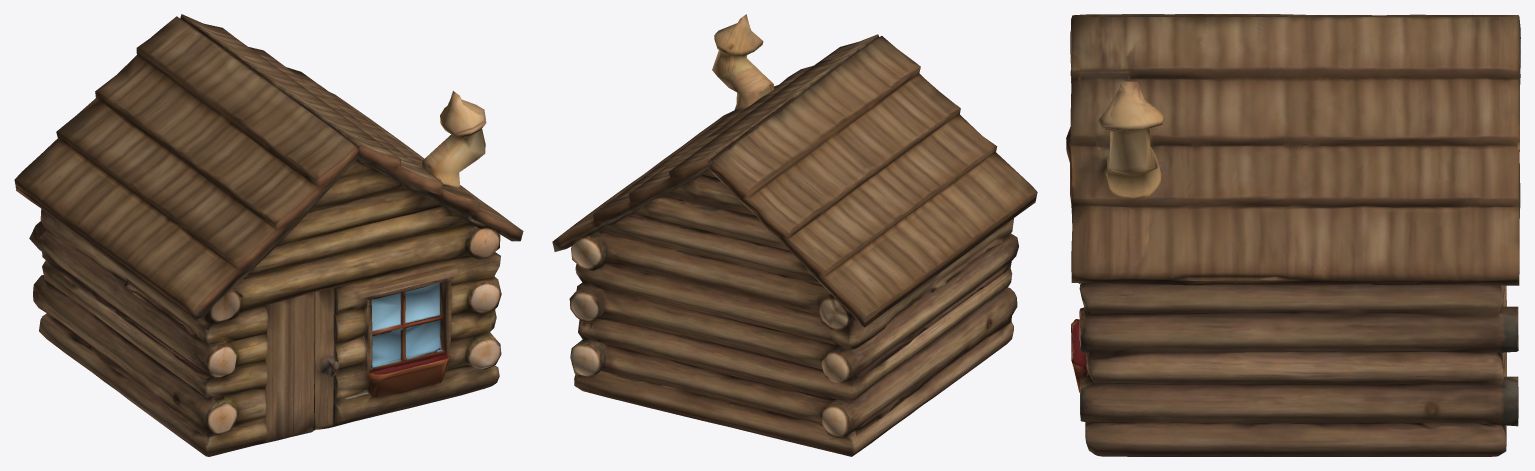
Rendered from casa_madera.glb.
3 renders of one model, left to right at view 1: azimuth 30°, elevation 25°; view 2: azimuth 150°, elevation 25°; view 3: azimuth 270°, elevation 25°, orthographic. The views are drawn at different scales.
Size of the model in its own units: 1.99 by 1.69 by 1.9.
Materials: 1 (1 with a texture image).
